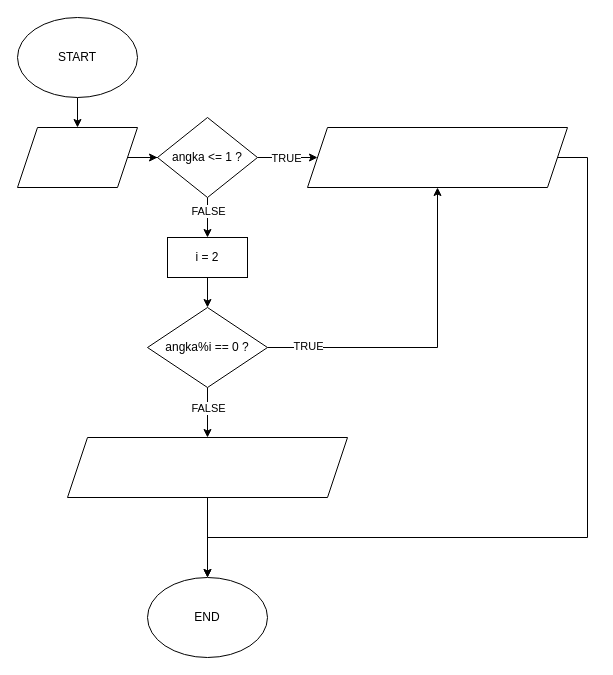
Image size: 613x675. Some labels were removed from this diagram. Each missing label, with the box of its shape:
INPUT angka: (16, 126, 138, 188)
PRINT (angka, "bukan bilangan prima"): (306, 126, 568, 188)
PRINT (angka, "merupakan bilangan prima"): (66, 436, 348, 498)
